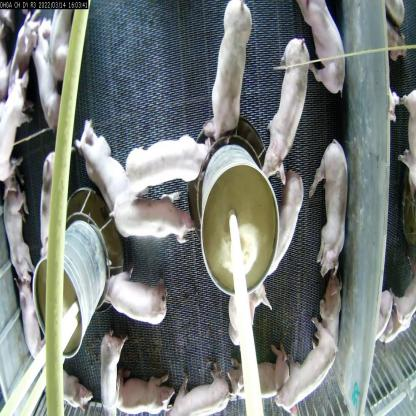Pig: (255, 26, 316, 182), (195, 0, 257, 147), (60, 117, 128, 217), (309, 148, 360, 277), (278, 326, 348, 416), (297, 0, 354, 98), (223, 271, 282, 353), (266, 165, 308, 280), (114, 198, 189, 259), (33, 144, 66, 275), (130, 136, 204, 192), (233, 348, 292, 413), (162, 365, 237, 416), (34, 9, 67, 114), (92, 336, 130, 416), (110, 279, 164, 335), (110, 371, 172, 415), (2, 194, 31, 285), (0, 59, 20, 183)
